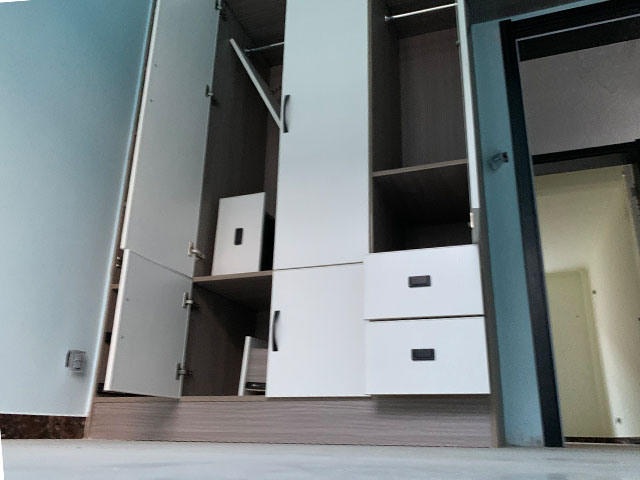cabinet: (82, 151, 484, 448)
